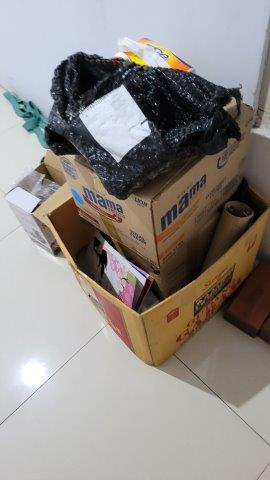kardus: (7, 144, 270, 367)
kertas: (81, 89, 152, 161)
